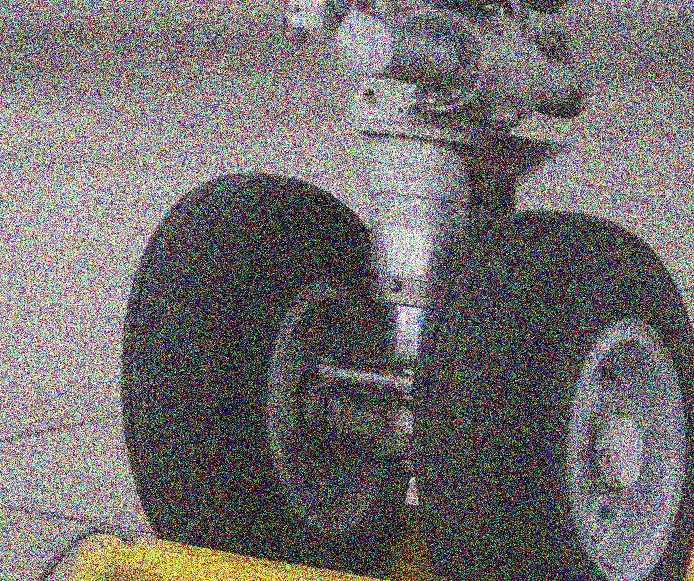chock: (61, 527, 536, 581)
wheel: (99, 161, 408, 579), (412, 201, 694, 581)
